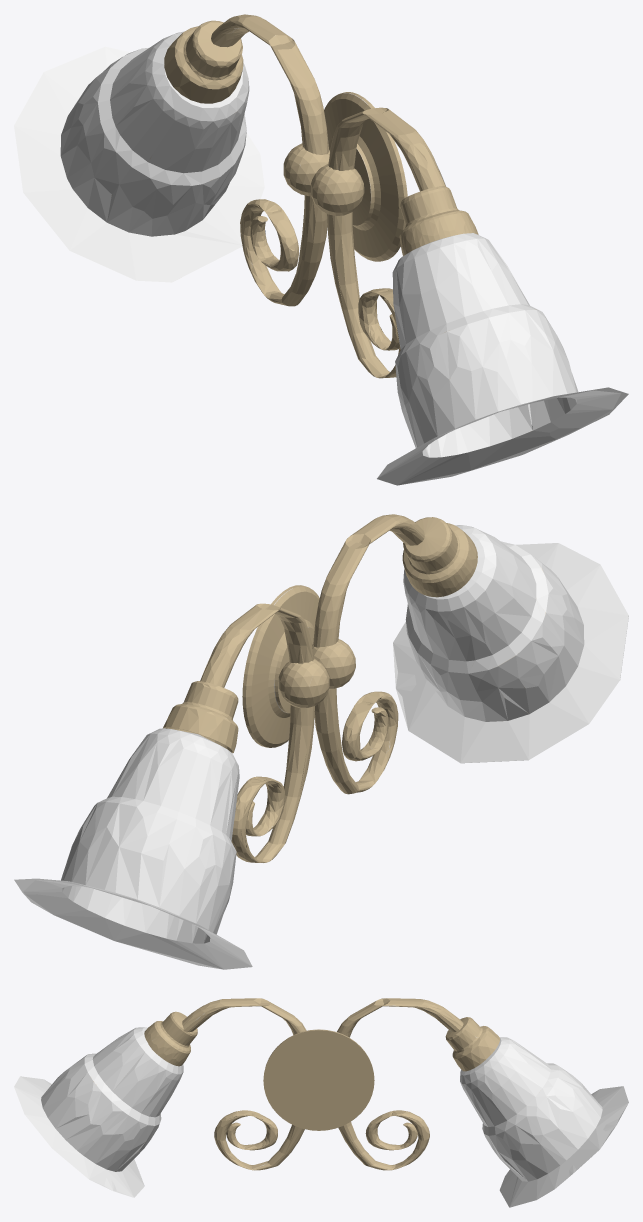
Rendered from lampz.obj.
3 renders of one model, top to bottom at view 1: azimuth 30°, elevation 25°; view 2: azimuth 150°, elevation 25°; view 3: azimuth 270°, elevation 25°, orthographic. The views are drawn at different scales.
Parts seen in each view (by area): view 1: 2; view 2: 2; view 3: 2.
Part boxes in pixels (x1,y1,x2,y2): 2: [14, 14, 628, 485]; 2: [14, 514, 628, 969]; 2: [14, 998, 628, 1207].
Bounding box in the file's own units: 1.33 × 1.59 × 4.52.
Materials: 2 (2 with a texture image).
